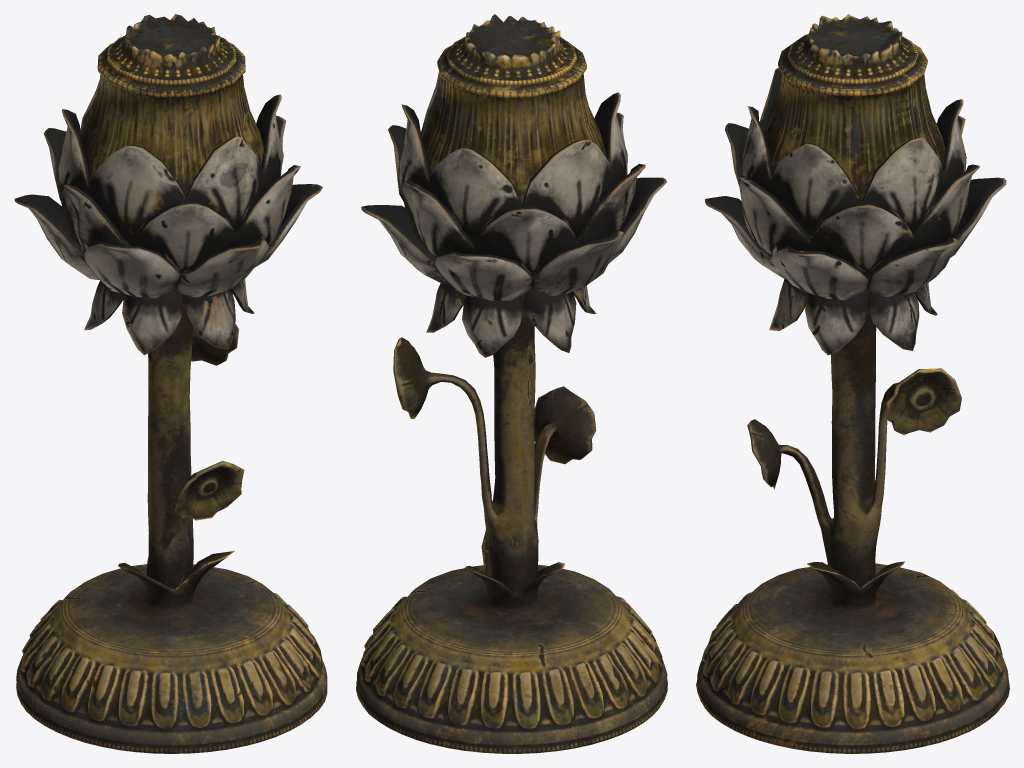
Rendered from lamp_type_3.glb.
3 views of the same model, side by side, from view 1: azimuth 30°, elevation 25°; view 2: azimuth 150°, elevation 25°; view 3: azimuth 270°, elevation 25° (orthographic).
Parts seen in each view (by area): view 1: Chinese lotus lamp-Freepoly.org; view 2: Chinese lotus lamp-Freepoly.org; view 3: Chinese lotus lamp-Freepoly.org.
Part boxes in pixels (left/top/right/bottom): Chinese lotus lamp-Freepoly.org: left=14, top=14, right=327, bottom=753; Chinese lotus lamp-Freepoly.org: left=356, top=14, right=667, bottom=753; Chinese lotus lamp-Freepoly.org: left=696, top=14, right=1009, bottom=753.
Size of the model in its own units: 0.0899 by 0.2075 by 0.0899.
1 material, 1 textured.
